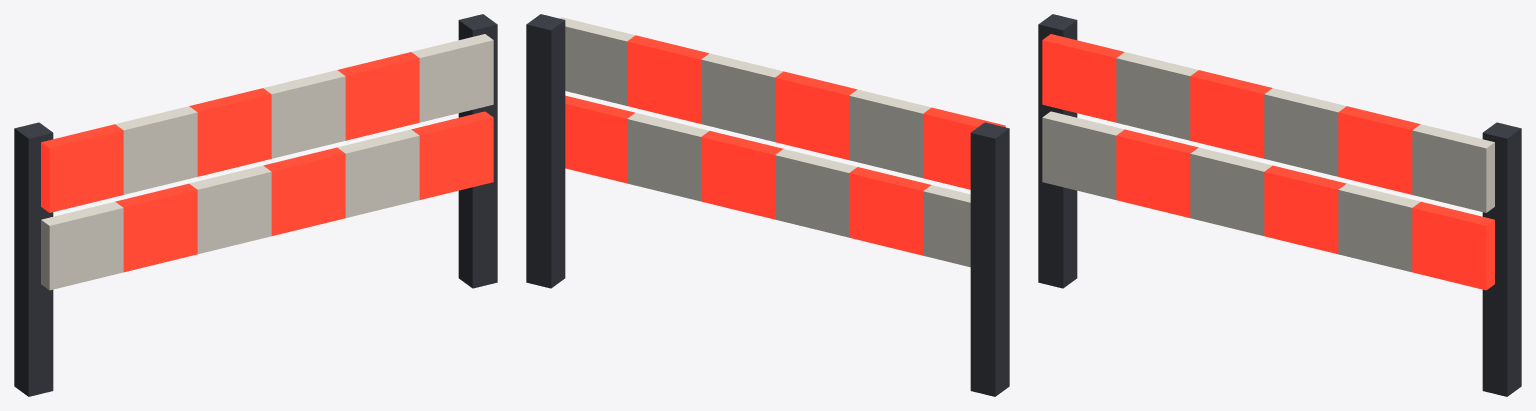
File: barrier.glb
3 views of the same model, side by side, from view 1: azimuth 30°, elevation 25°; view 2: azimuth 150°, elevation 25°; view 3: azimuth 330°, elevation 25° (orthographic).
Visible parts, largest first — view 1: barrier; view 2: barrier; view 3: barrier.
Part boxes in pixels (bbox=[...]): barrier: bbox=[14, 14, 497, 396]; barrier: bbox=[526, 14, 1009, 396]; barrier: bbox=[1038, 14, 1521, 396].
Bounding box in the file's own units: 1.9 × 1 × 0.16.
